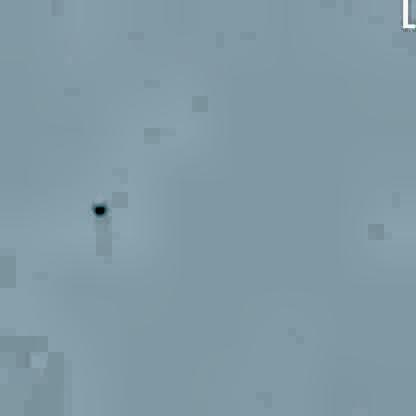golfball: (90, 195, 108, 214)
